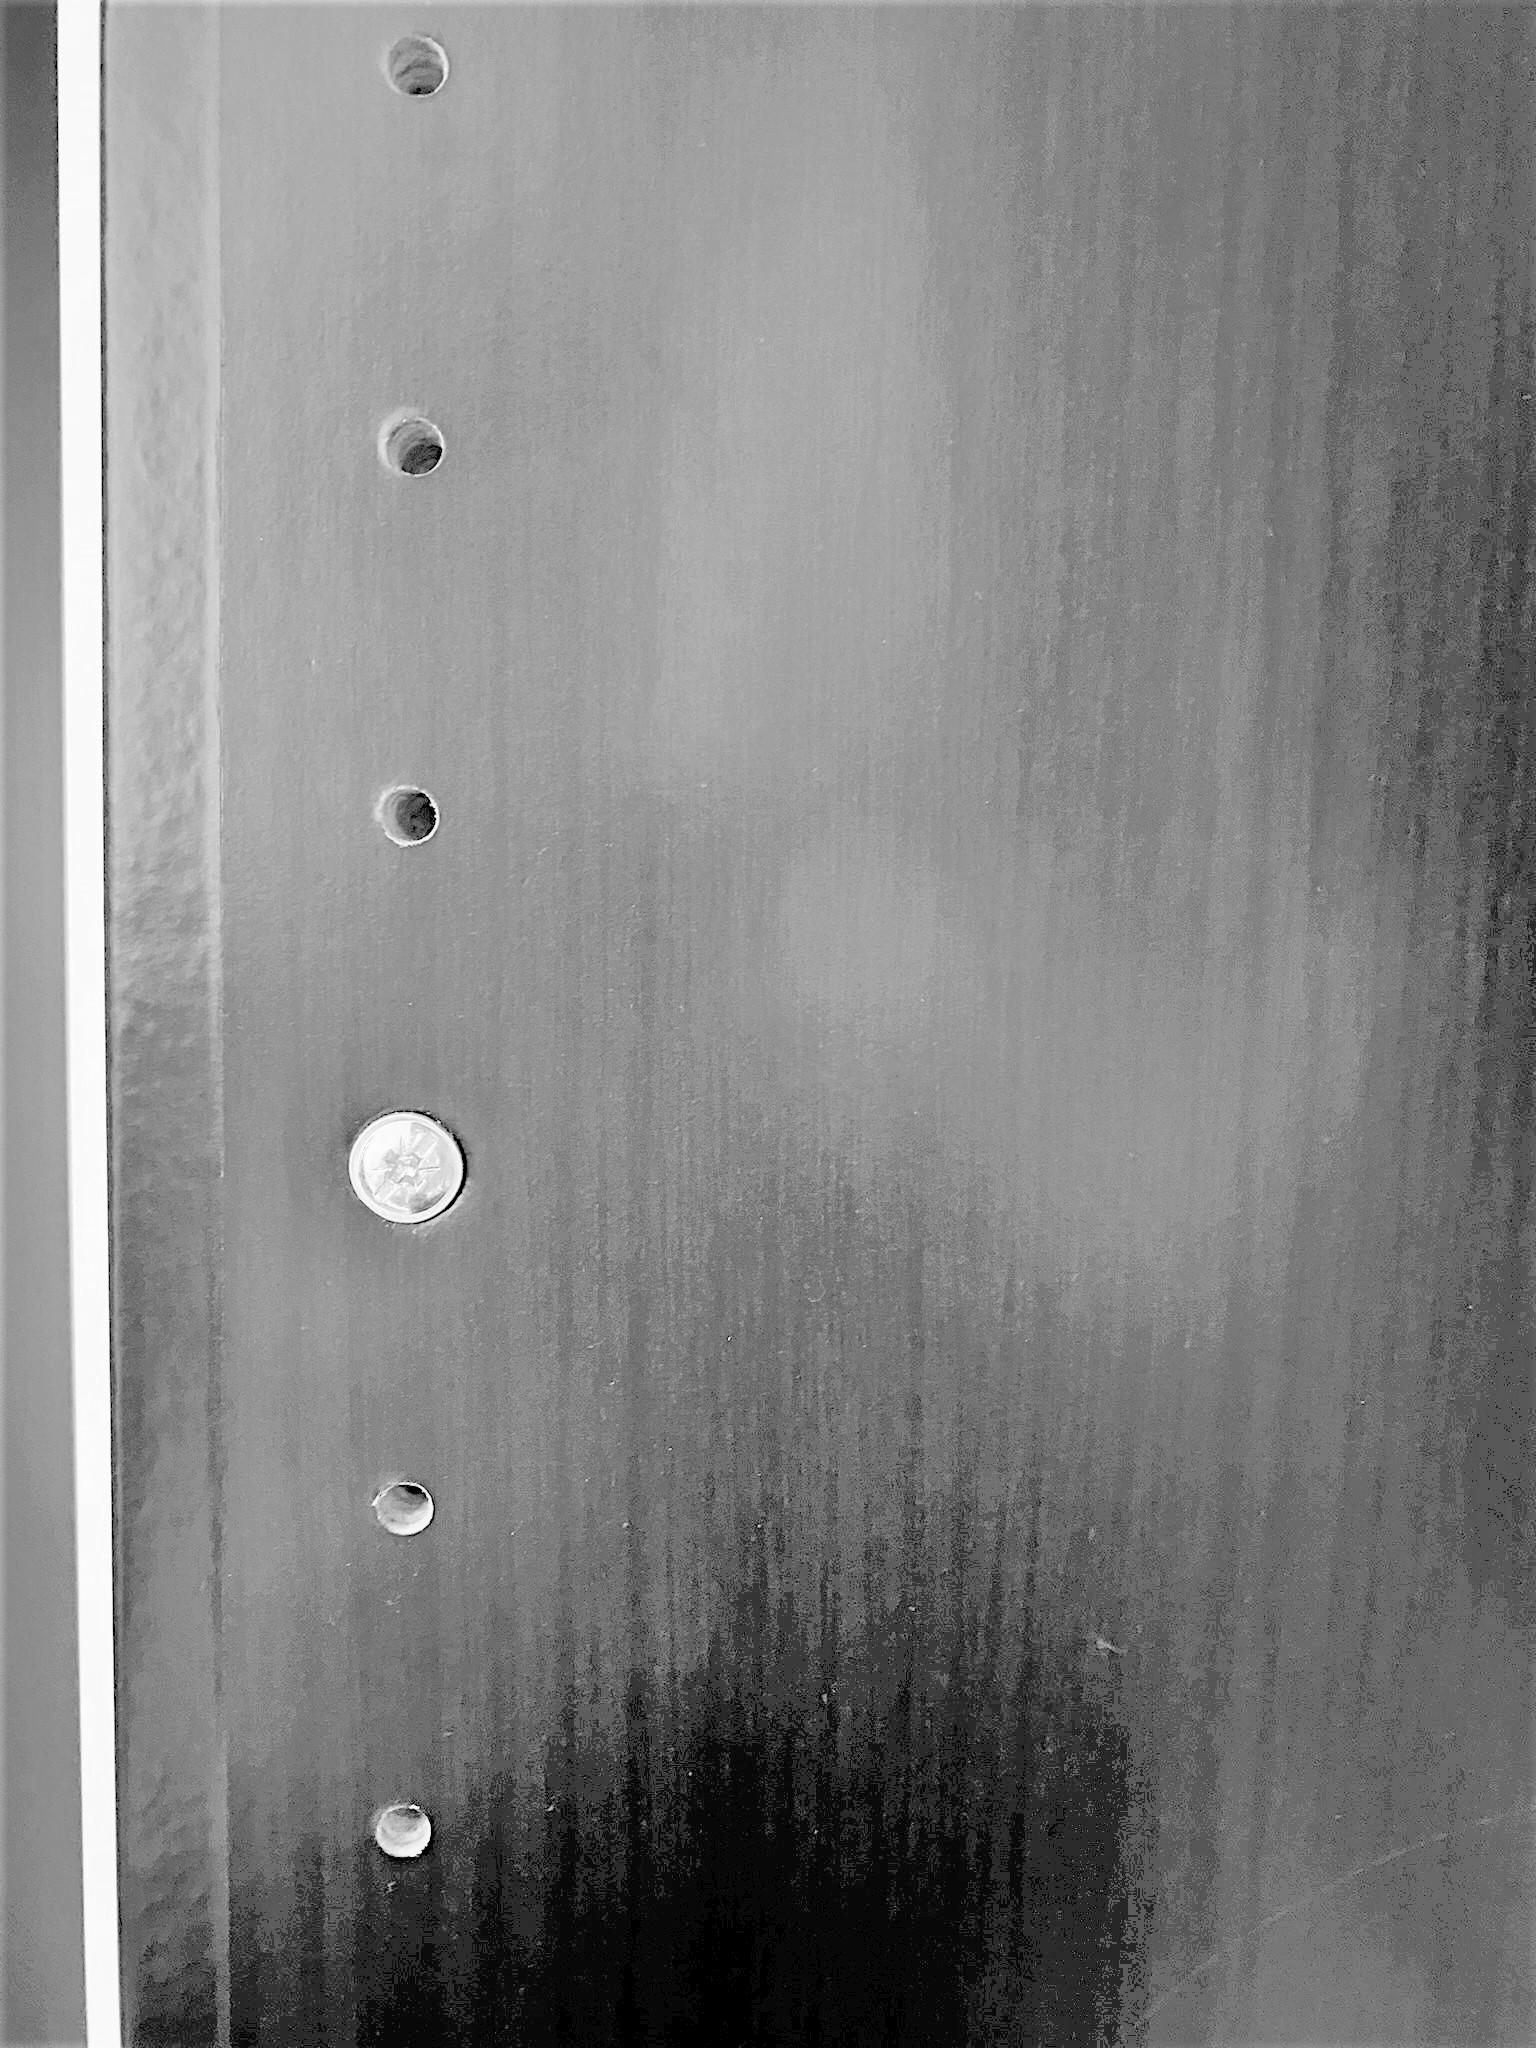screw: (342, 1108, 470, 1229)
